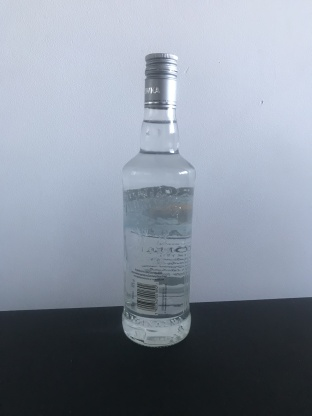nakretka: (142, 50, 179, 111)
